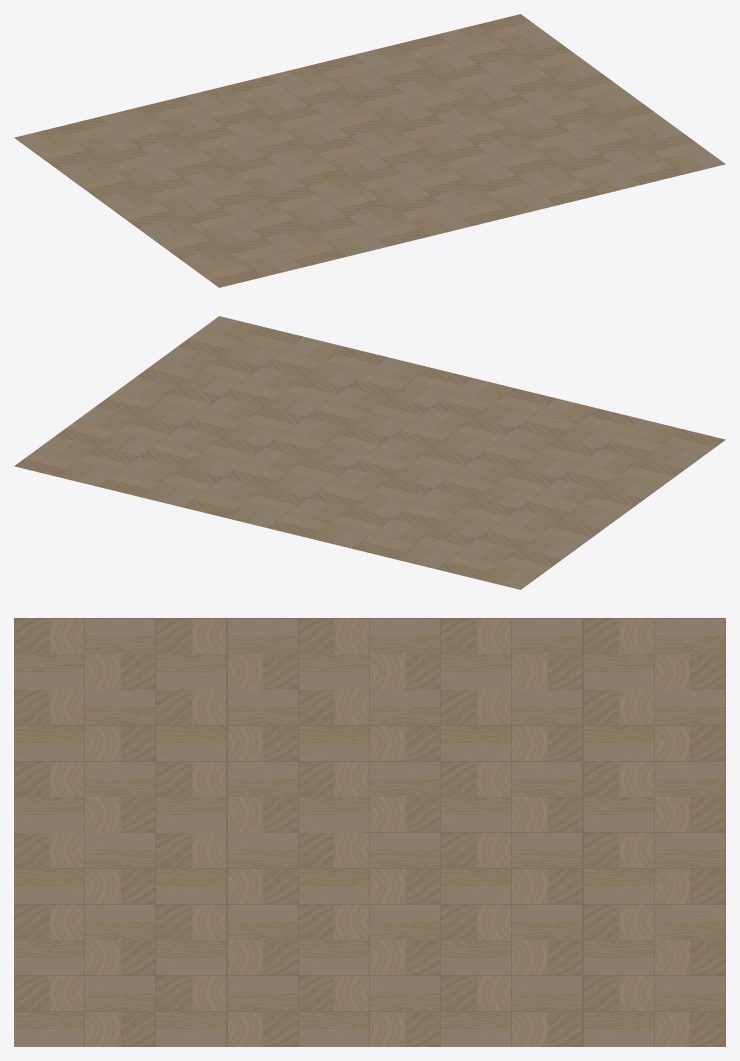
The model's file is kd_stage_135d18_4_25.glb.
3 renders of one model, top to bottom at view 1: azimuth 30°, elevation 25°; view 2: azimuth 150°, elevation 25°; view 3: azimuth 270°, elevation 25°, orthographic. The views are drawn at different scales.
Visible parts, largest first — view 1: kd_stage_135d18_4_25; view 2: kd_stage_135d18_4_25; view 3: kd_stage_135d18_4_25.
Boxes of the visible parts, x1=… form: kd_stage_135d18_4_25: x1=14, y1=14, x2=725, y2=287; kd_stage_135d18_4_25: x1=14, y1=316, x2=725, y2=589; kd_stage_135d18_4_25: x1=14, y1=618, x2=725, y2=1046.
Bounding box in the file's own units: 4.51 × 0.000184 × 3.16.
Materials: 1 (1 with a texture image).
